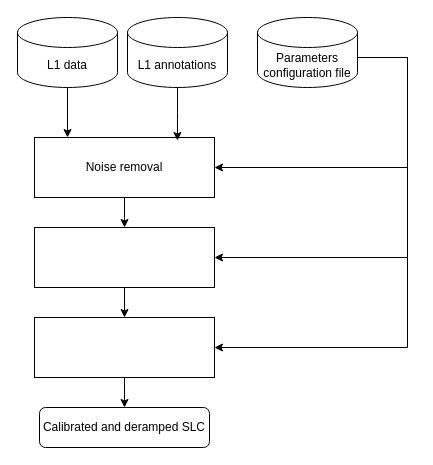
This 433x465 diagram has some shape labels left out. Here are the shapes that lost their labels. From the top down, the centre of each, then its label:
[124,257]: Amplitude calibration
[124,347]: Phase deramping
